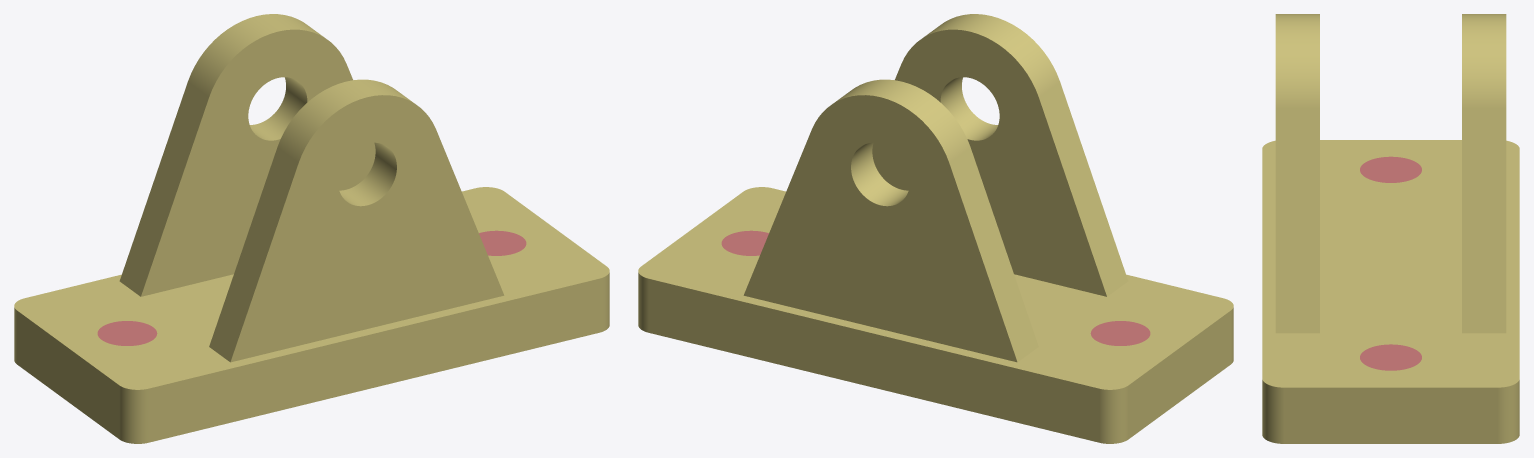
The model's file is step_05.glb.
3 renders of one model, left to right at view 1: azimuth 30°, elevation 25°; view 2: azimuth 150°, elevation 25°; view 3: azimuth 270°, elevation 25°, orthographic. The views are drawn at different scales.
Parts seen in each view (by area): view 1: part__base, removed__base; view 2: part__base, removed__base; view 3: part__base, removed__base.
Boxes of the visible parts, x1,y1,x2,y2 form: part__base: (14, 14, 609, 443); removed__base: (97, 230, 526, 345); part__base: (638, 14, 1233, 443); removed__base: (721, 230, 1150, 345); part__base: (1262, 14, 1519, 443); removed__base: (1360, 156, 1421, 370).
Size of the model in its own units: 132 by 74 by 58.
